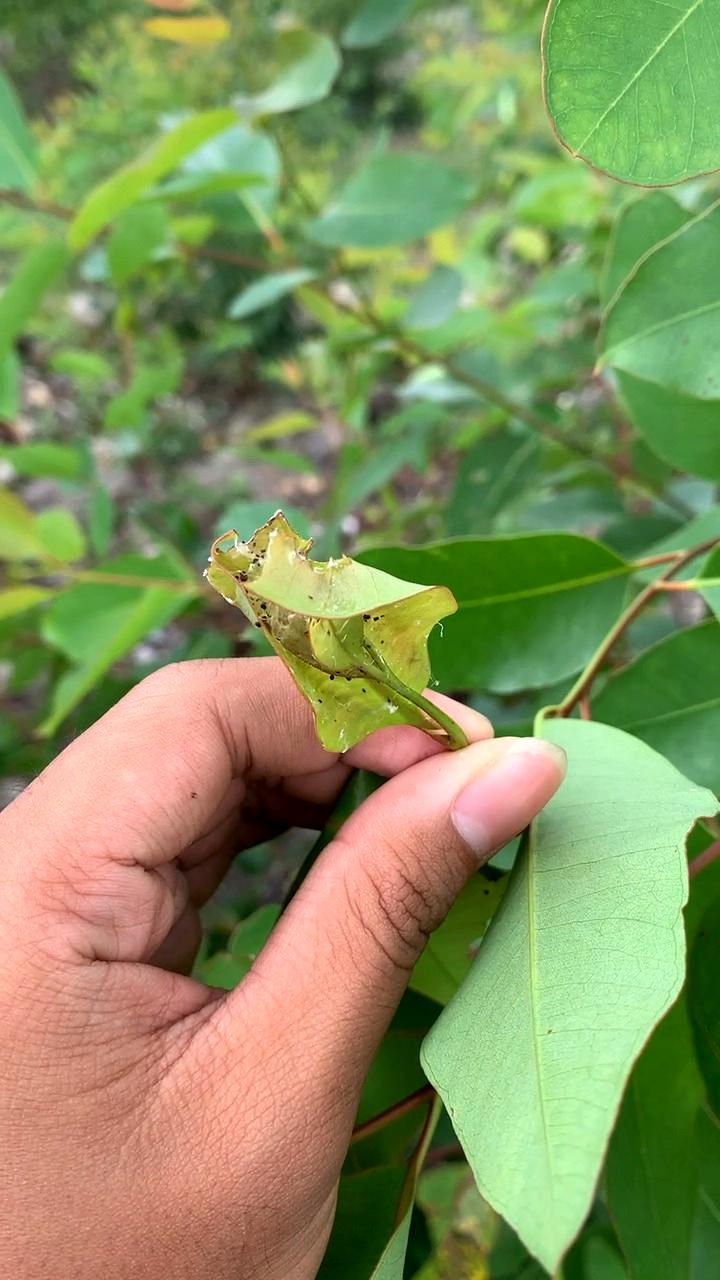Leaf Roller - Leaf: (206, 520, 453, 753)
